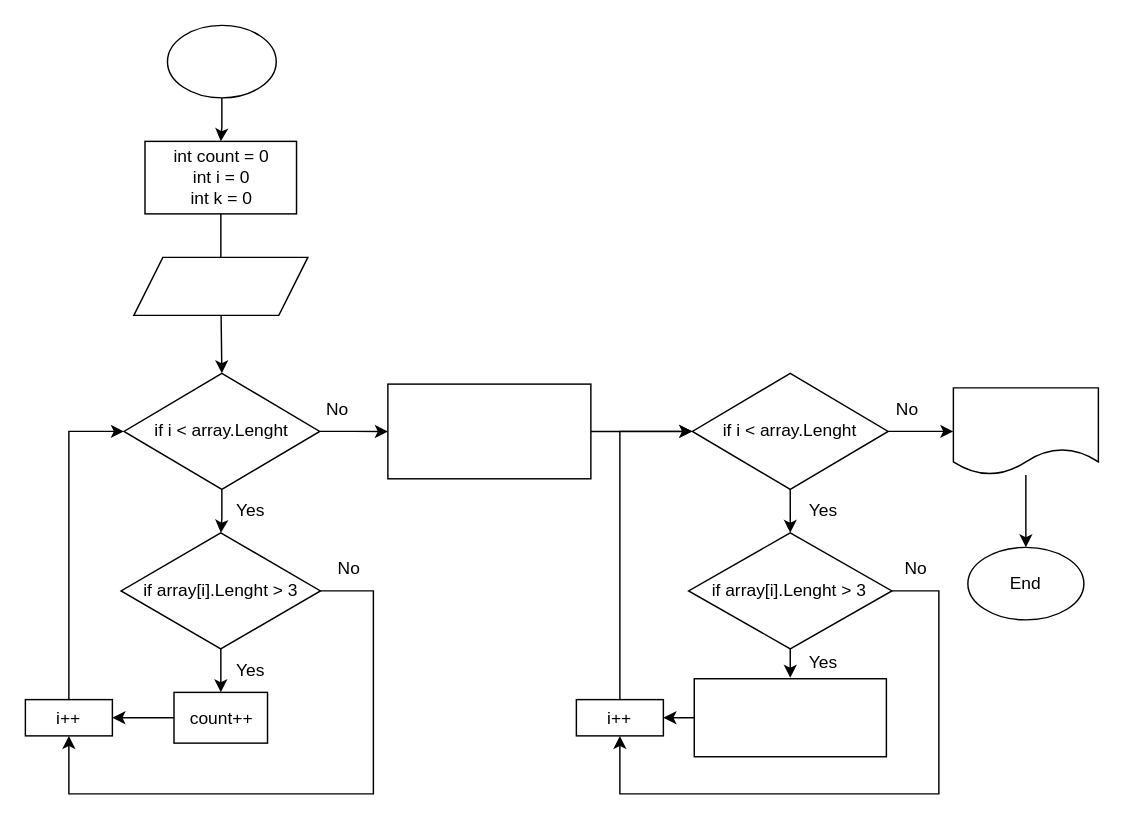
This 1124x831 diagram has some shape labels left out. The centre of each missing label's shape, as x and y in pixels:
"i = 0 string[] newArray = new string[count]" belongs at point (488, 431).
"newArray" belongs at point (1025, 430).
"newArray[k] = array[i] k++" belongs at point (789, 717).
"Start" belongs at point (221, 61).
"string[] array" belongs at point (220, 285).
